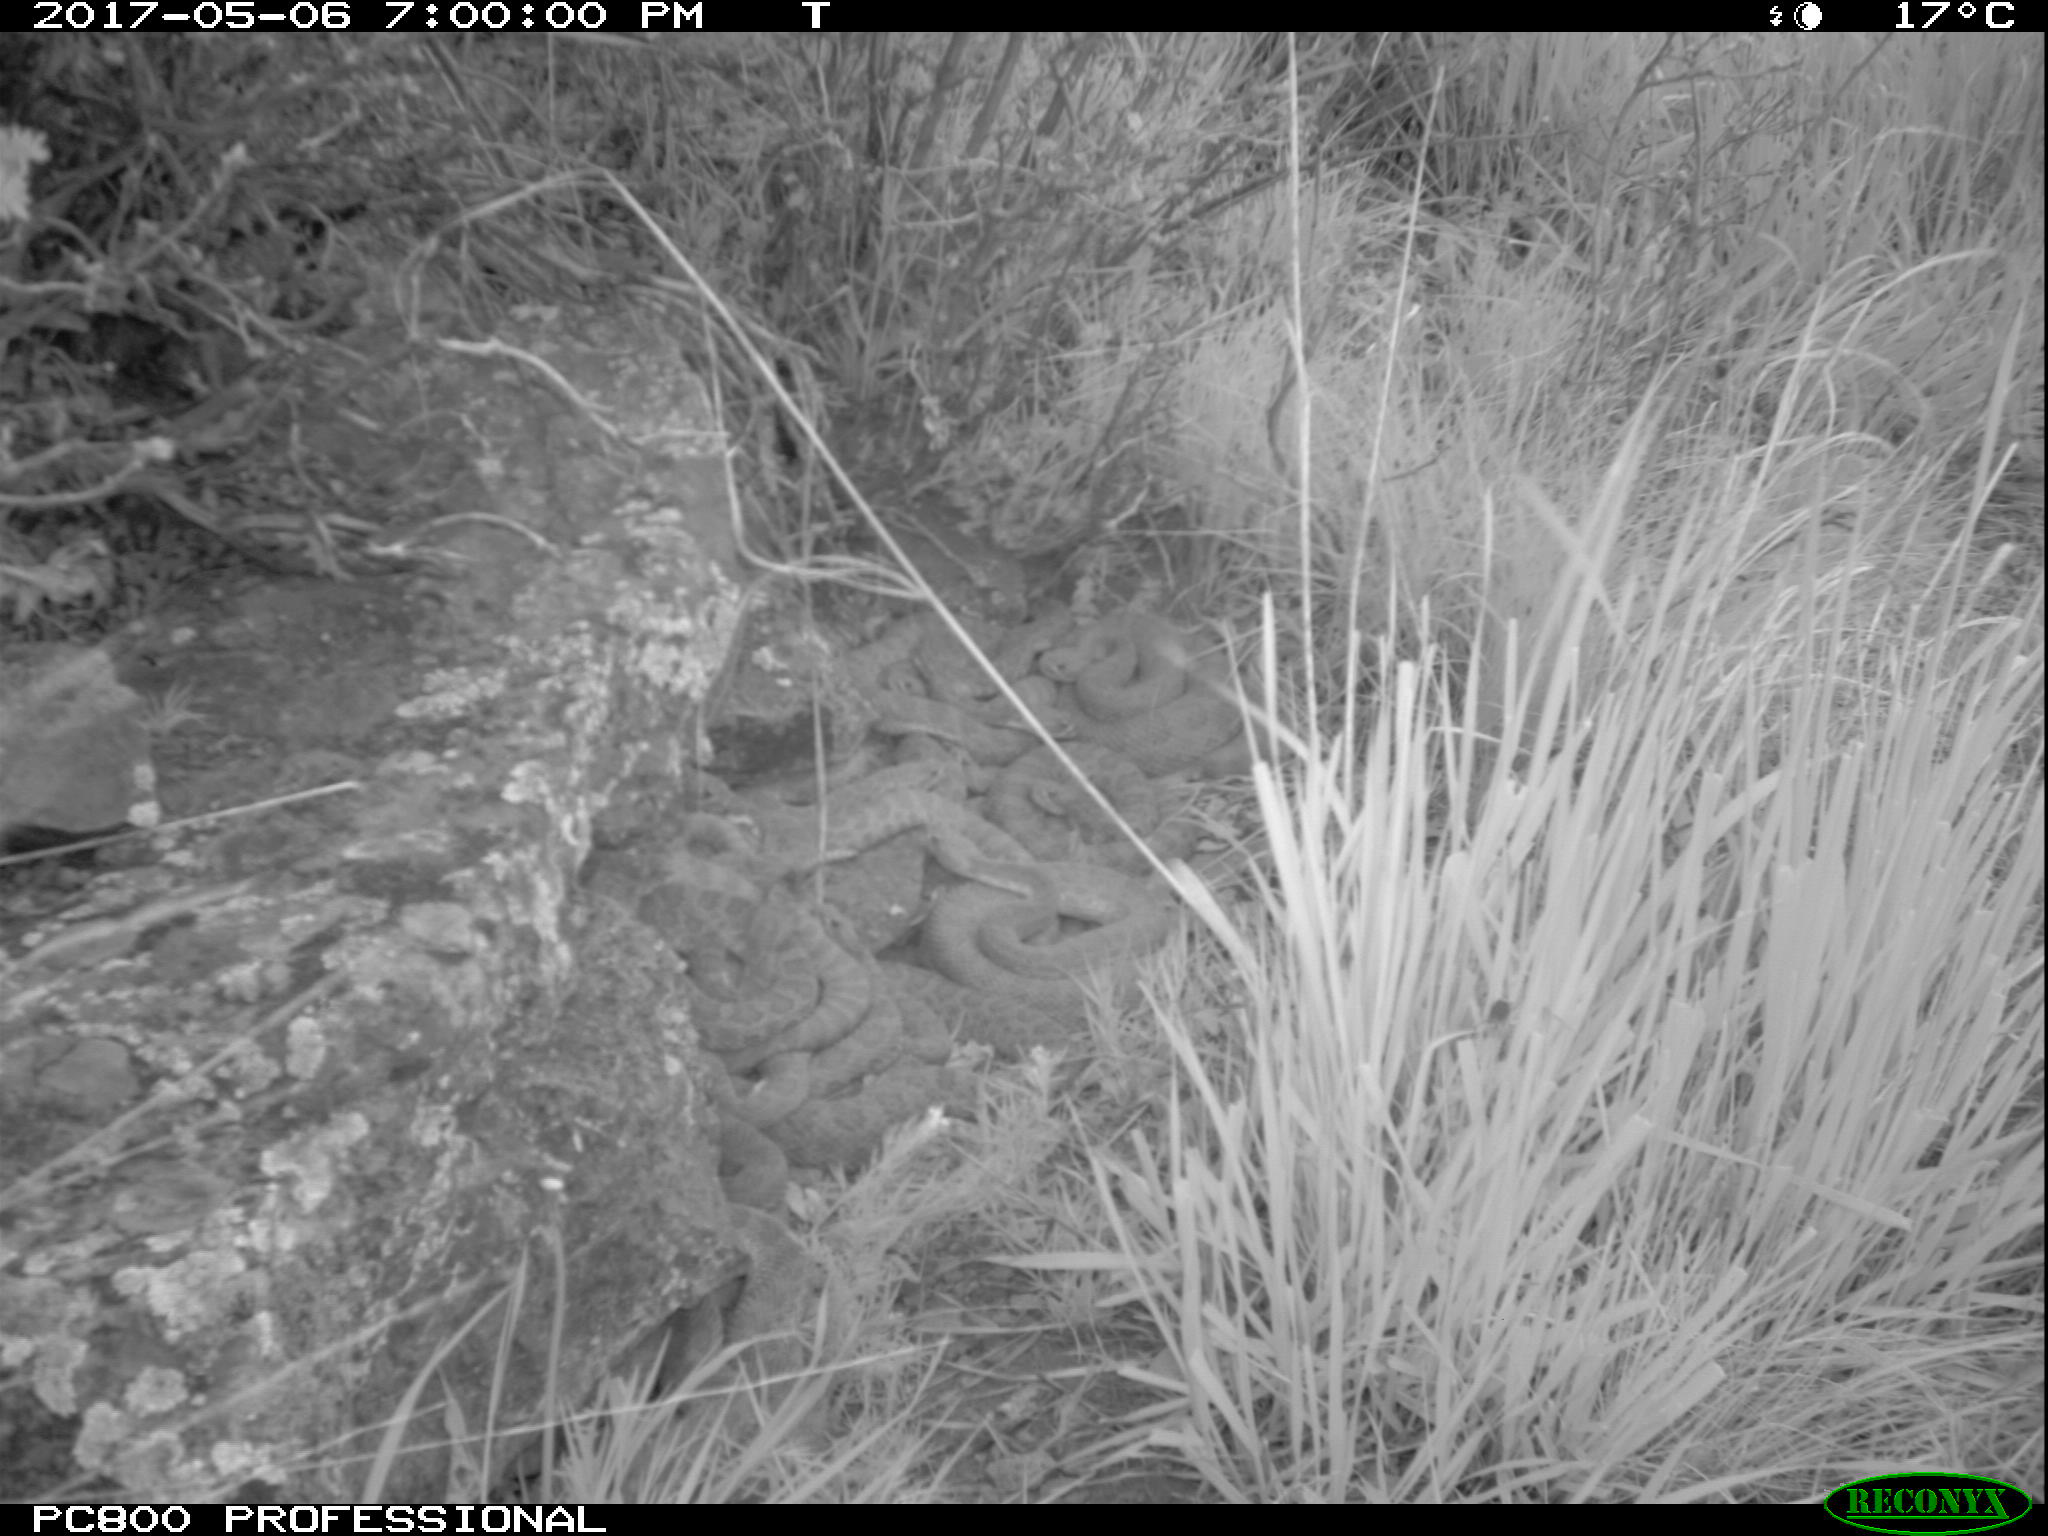snake: (906, 824, 1198, 1015), (726, 752, 1034, 874), (648, 874, 877, 1037), (1039, 613, 1280, 763), (990, 728, 1208, 886), (853, 602, 1064, 753), (698, 1042, 869, 1213), (681, 1218, 830, 1386)
